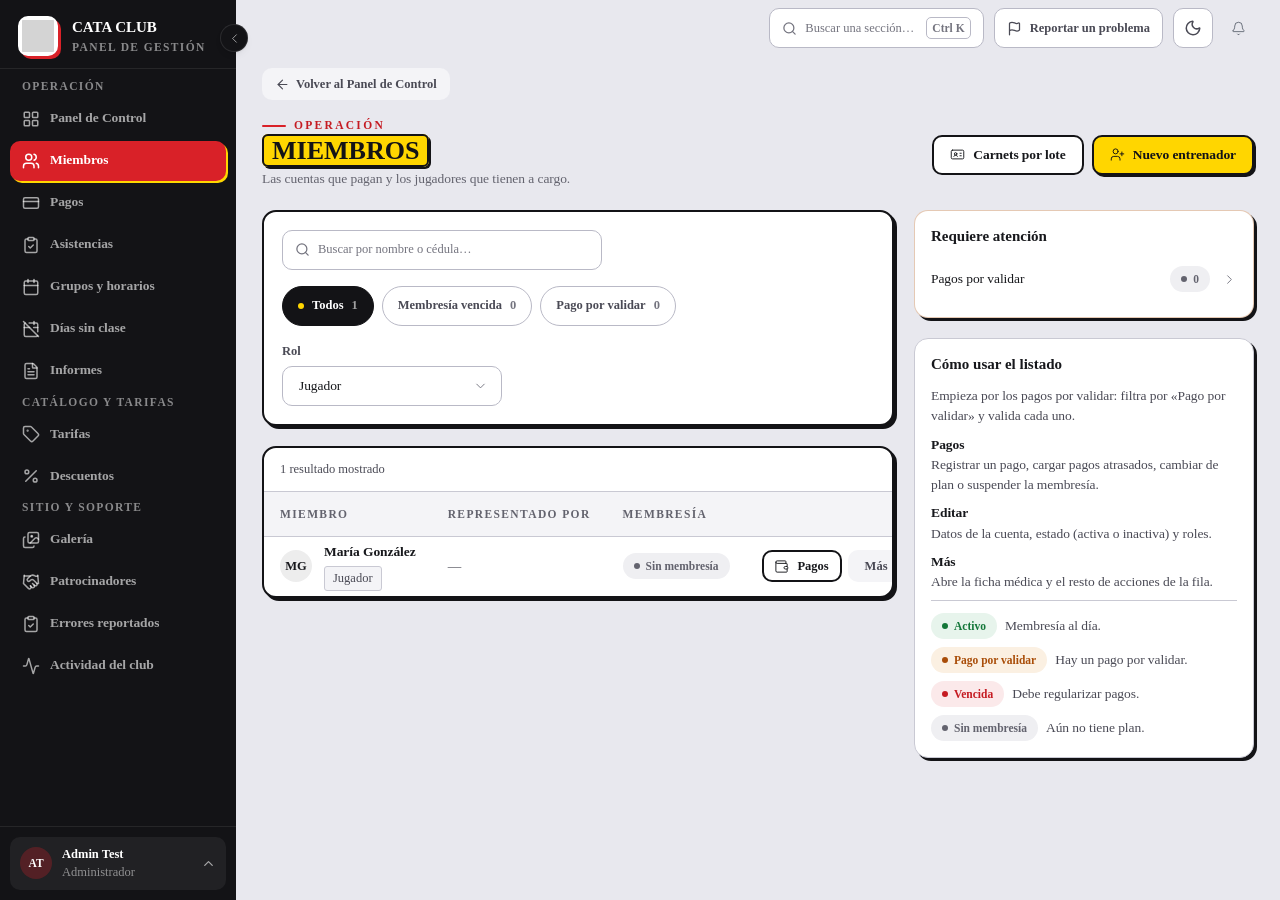
Scenario: MembersPage — Editar member modal › computes the boxed age from the club's calendar day, not a UTC-shifted one
The width and height of the screenshot is (1280, 900).
What coordinates should you click on to do the following:
click the button with aria-label "más acciones para"
I would click on:
 (888, 566)
Its box is [848, 550, 928, 582].
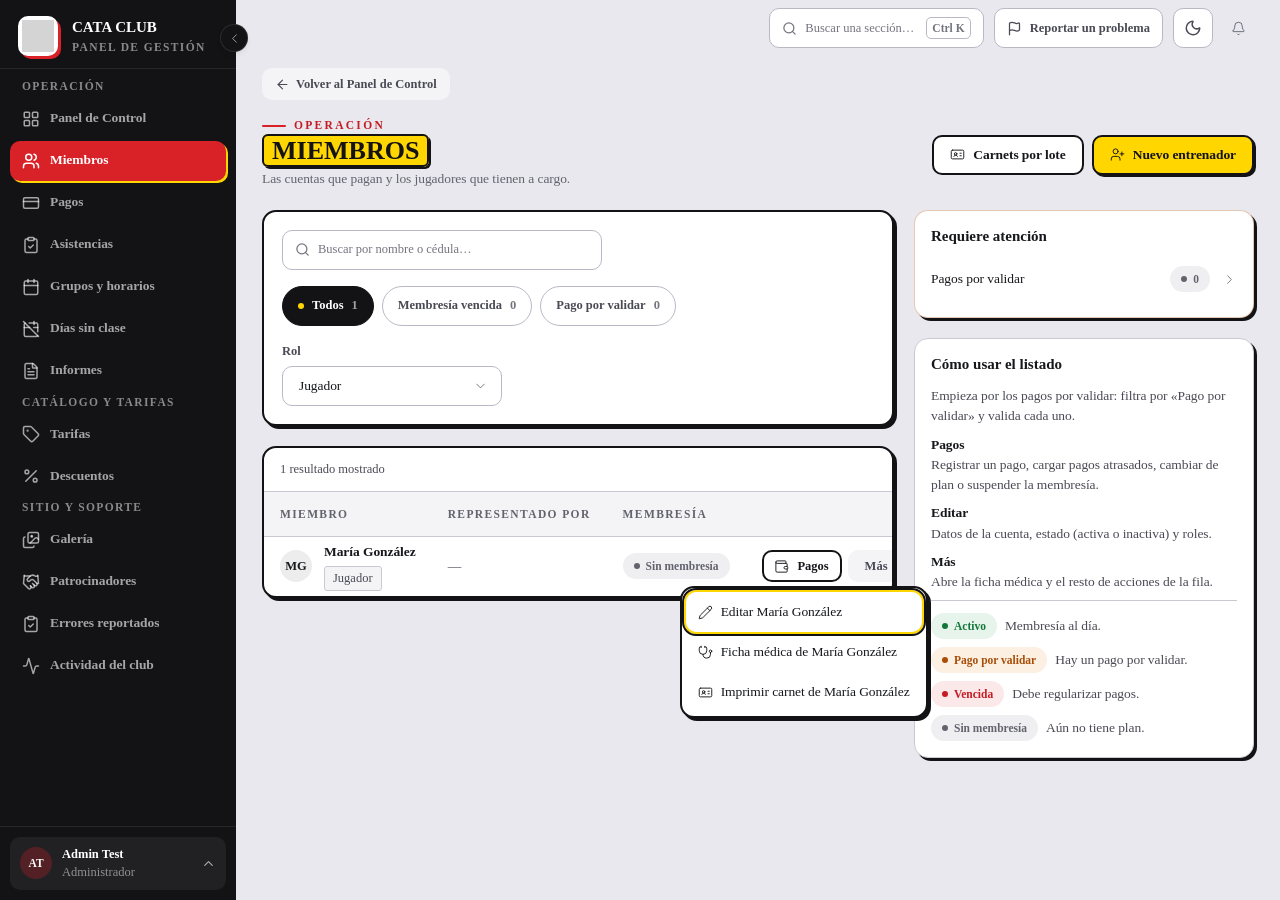
What coordinates should you click on to do the following:
click the menu item "Editar María González"
I would click on:
 (804, 612)
Its box is [686, 592, 922, 632].
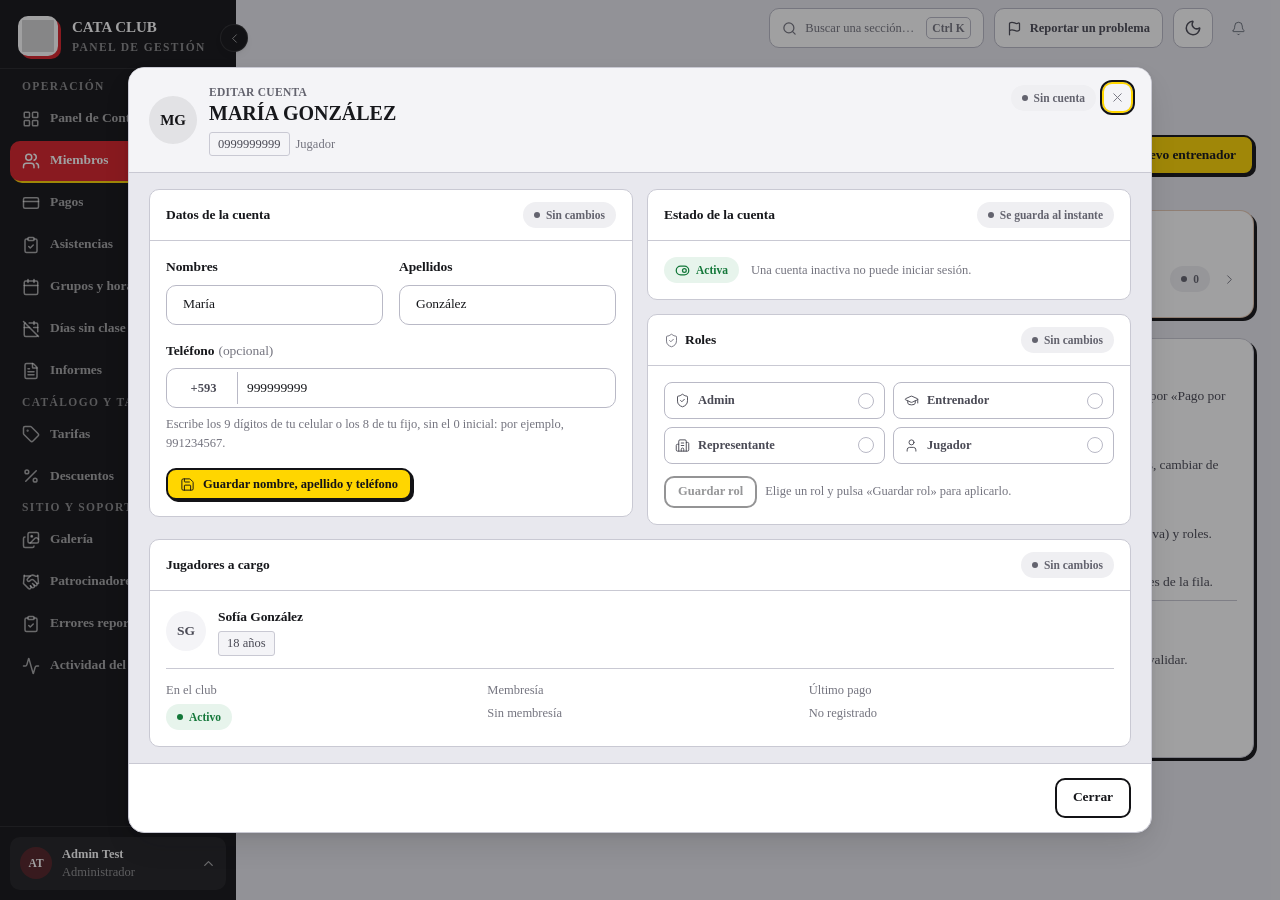
Expected: the text "17 años" is shown, [218, 631, 274, 656]
